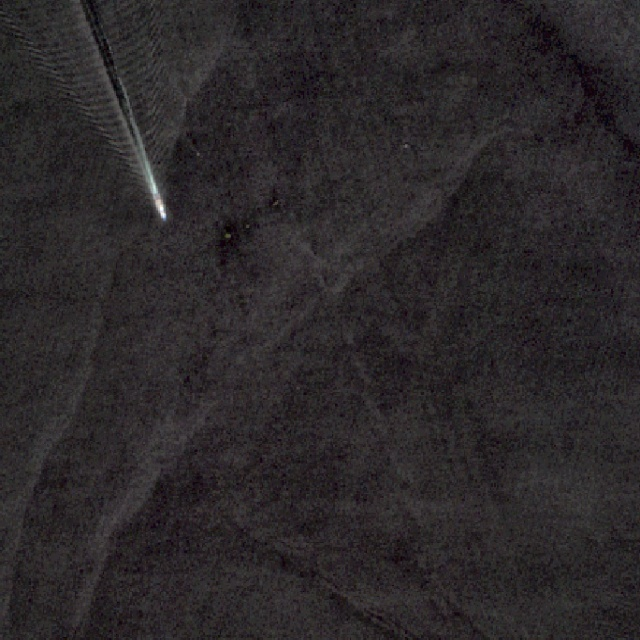wake: (54, 25, 212, 240)
